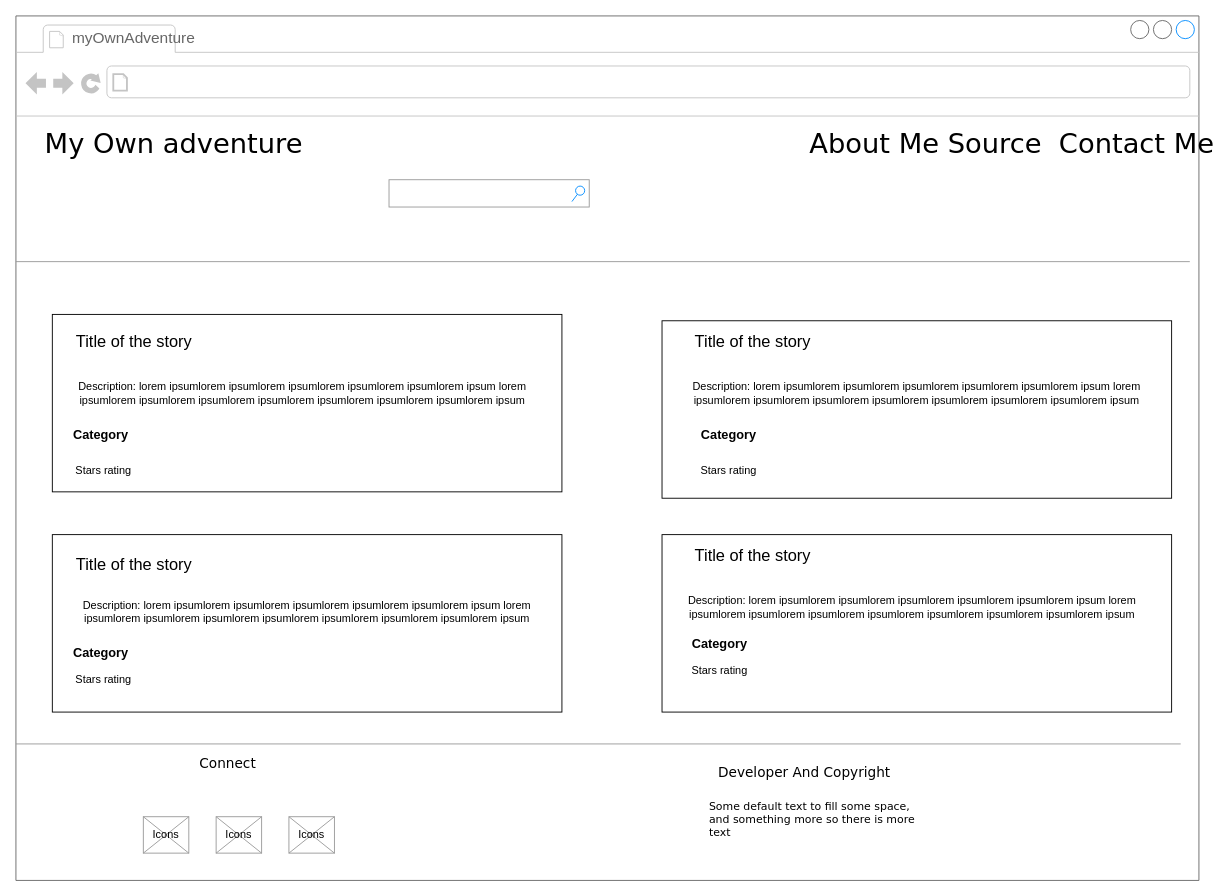
Image size: 1230x896. Some labels were removed from this diagram. The centre of each missing label's shape, as x and y in pixels:
Filter Story by Category: point (488, 193)
https://omonimus1.github.io/myOwnAdventure.github.io/: point (247, 82)
